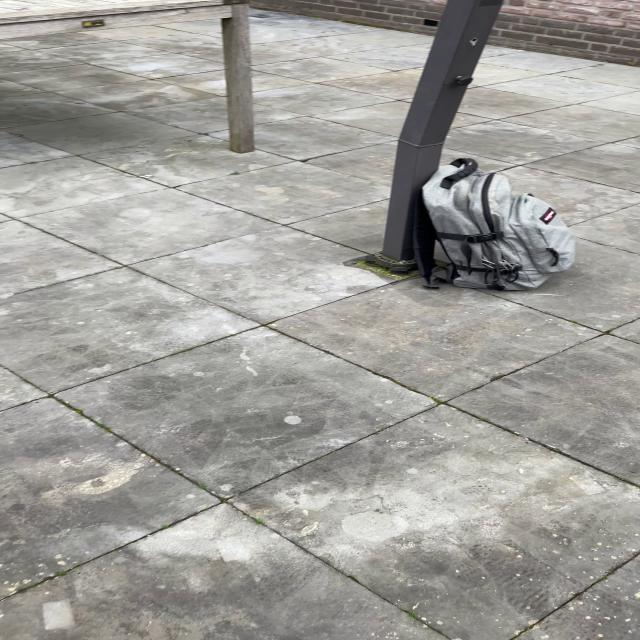backpack: (411, 156, 581, 296)
